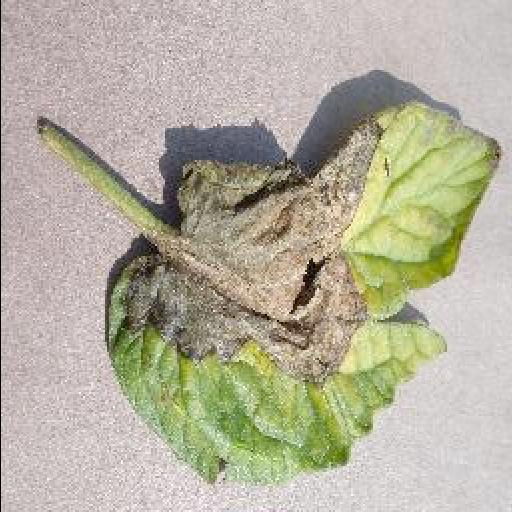disease_tomato: (102, 98, 504, 486)
